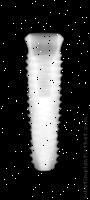Cowellmedi: (24, 33, 64, 172)
